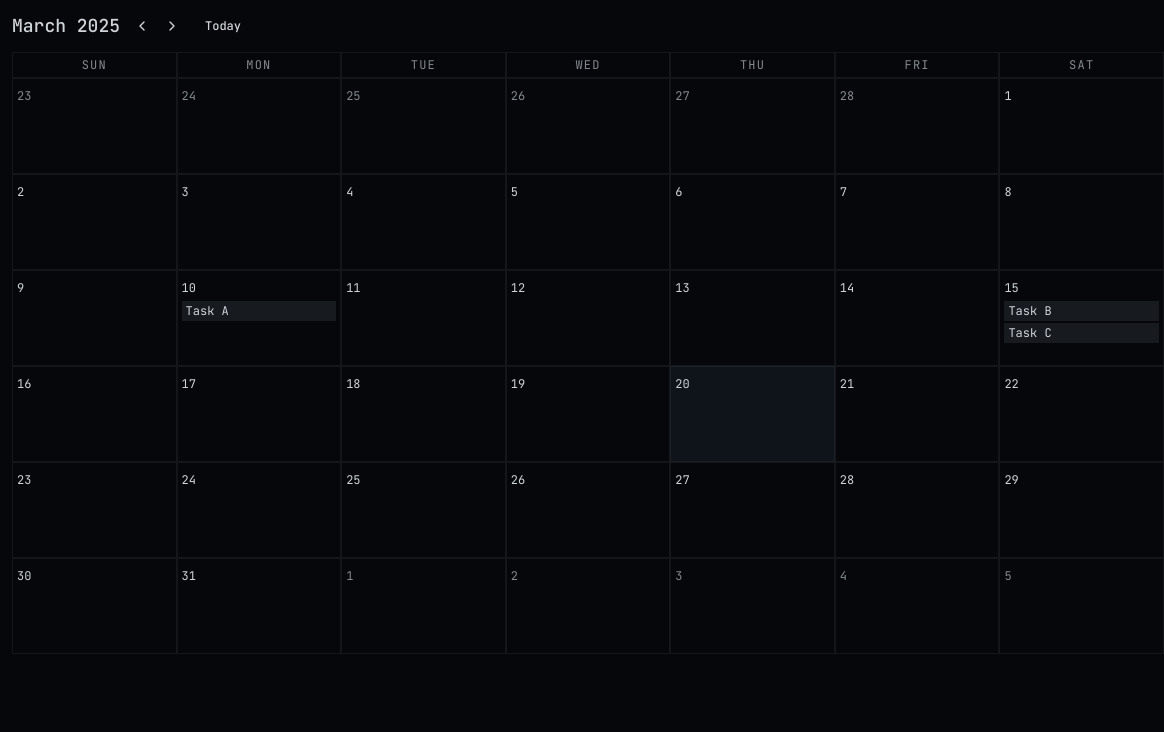
Test case: CalendarView › next month navigation updates the displayed month
Click the button named "Next month". click: {"x": 172, "y": 26}
box: [158,12,186,40]
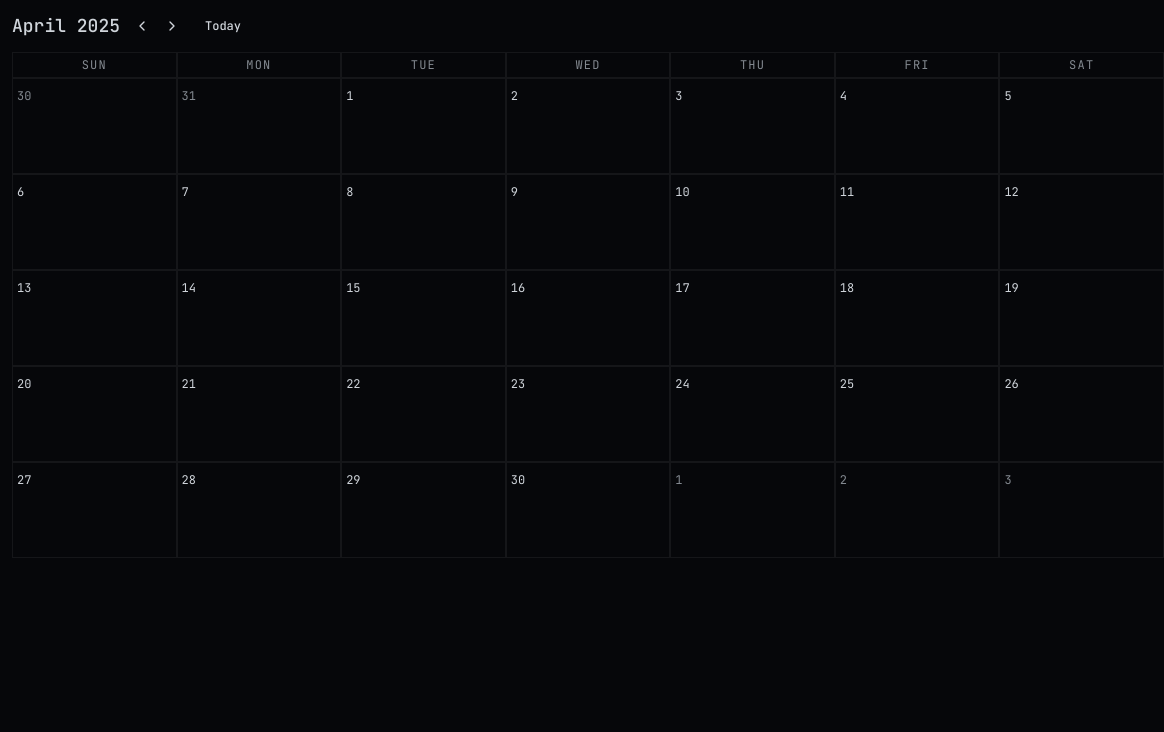
Now the heading "April 2025" is shown, box [12,12,120,40]
Now the heading "March 2025" is gone
